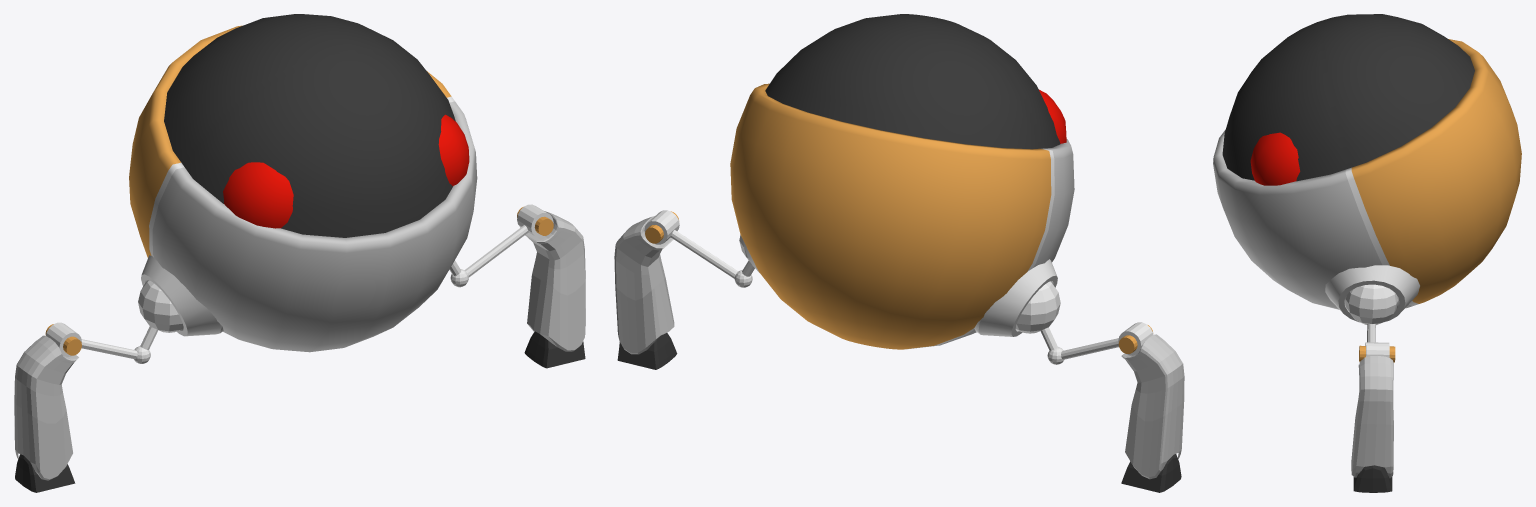
The model's file is brute.glb.
3 views of the same model, side by side, from view 1: azimuth 30°, elevation 25°; view 2: azimuth 150°, elevation 25°; view 3: azimuth 270°, elevation 25° (orthographic). The views are drawn at different scales.
Visible parts, largest first — view 1: Sphere, Cube.005; view 2: Sphere, Cube.005; view 3: Sphere, Cube.005.
Part boxes in pixels (bbox=[...]): Sphere: bbox=[129, 14, 477, 352]; Cube.005: bbox=[14, 204, 585, 492]; Sphere: bbox=[730, 14, 1074, 349]; Cube.005: bbox=[614, 210, 1184, 492]; Sphere: bbox=[1213, 14, 1521, 309]; Cube.005: bbox=[1325, 265, 1419, 492].
Bounding box in the file's own units: 1.45 × 0.967 × 0.7808.
